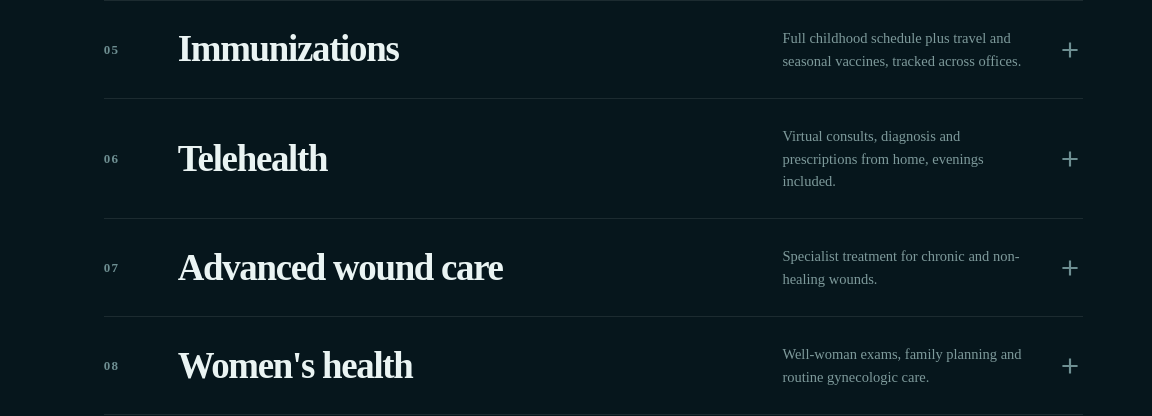
ServiceCatalog › closes an open panel when its row is activated again
(page scrolled)
Click the button "Advanced wound care": {"x": 340, "y": 267} [104,220,1083,316]
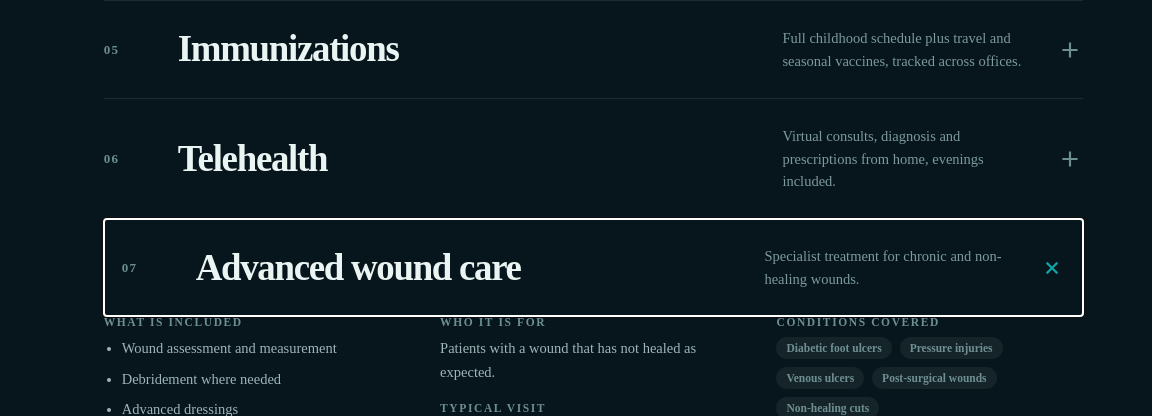
Now the button "Advanced wound care" is expanded
Click the button "Advanced wound care": {"x": 358, "y": 267} [104,220,1083,316]
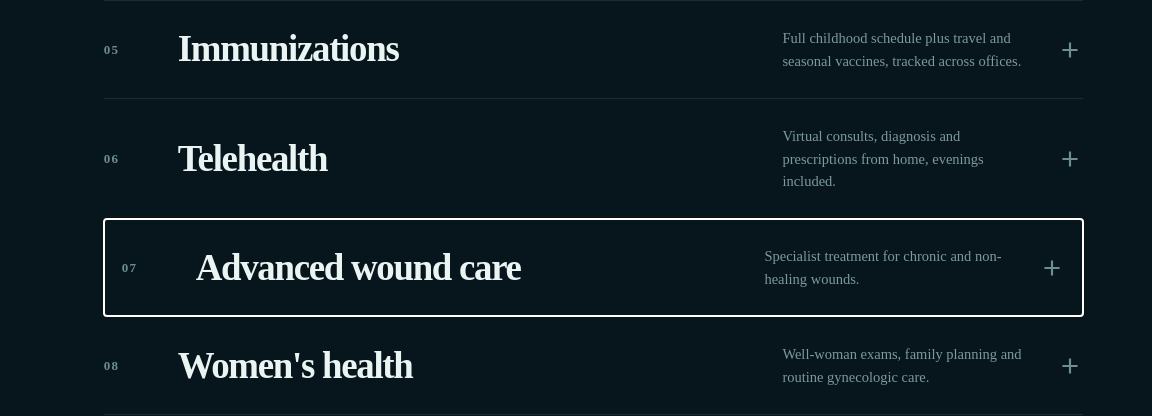
Now the button "Advanced wound care" is collapsed, box [104,220,1083,316]
